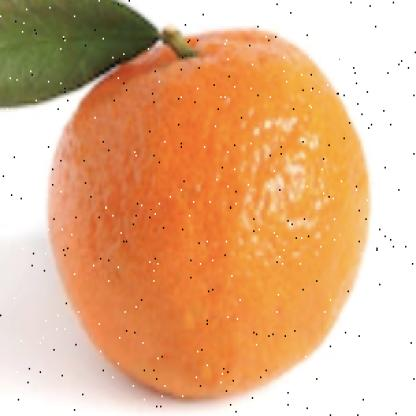fresh: (54, 32, 372, 399)
